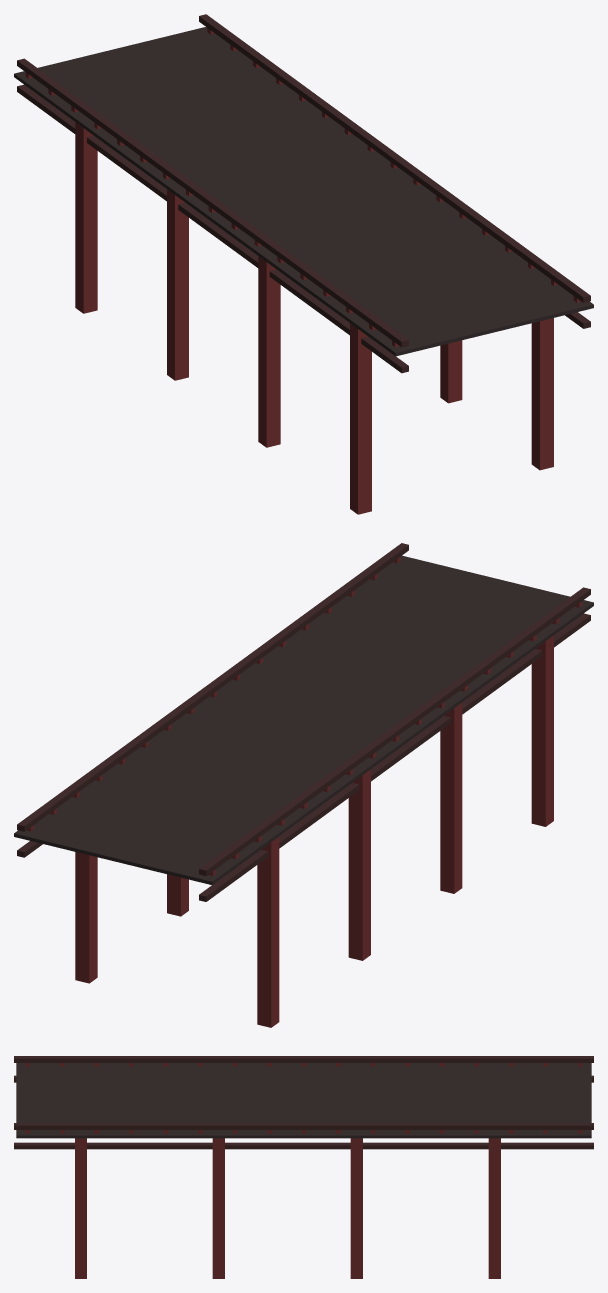
File: puente.fbx
3 views of the same model, one above another, from view 1: azimuth 30°, elevation 25°; view 2: azimuth 150°, elevation 25°; view 3: azimuth 270°, elevation 25° (orthographic). The views are drawn at different scales.
Visible parts, largest first — view 1: Puente; view 2: Puente; view 3: Puente.
Boxes of the visible parts, x1=… form: Puente: x1=14, y1=14, x2=593, y2=514; Puente: x1=14, y1=543, x2=593, y2=1027; Puente: x1=14, y1=1056, x2=593, y2=1278.
Size of the model in its own units: 1200 by 1166 by 4031.
